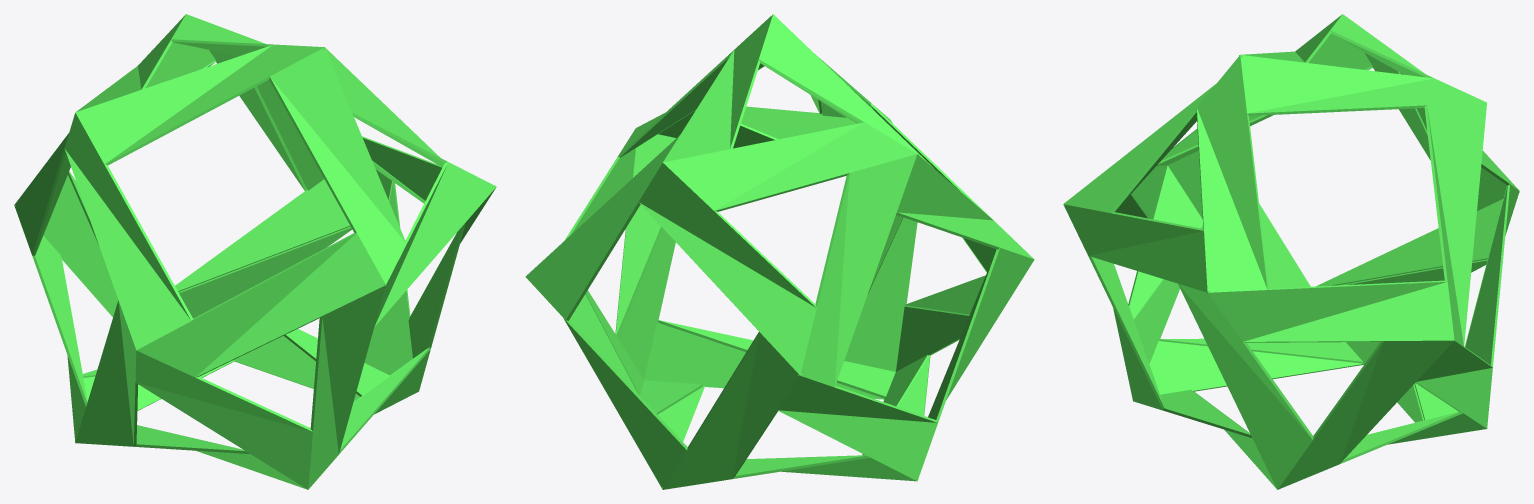
The model's file is TriangularOrthobicupola.glb.
3 renders of one model, left to right at view 1: azimuth 30°, elevation 25°; view 2: azimuth 150°, elevation 25°; view 3: azimuth 270°, elevation 25°, orthographic.
Visible parts, largest first — view 1: root; view 2: root; view 3: root.
Part boxes in pixels (x1,y1,x2,y2): root: (14, 14, 496, 489); root: (525, 14, 1034, 489); root: (1063, 14, 1519, 489).
Bounding box in the file's own units: 7.67 × 7.41 × 8.05.
